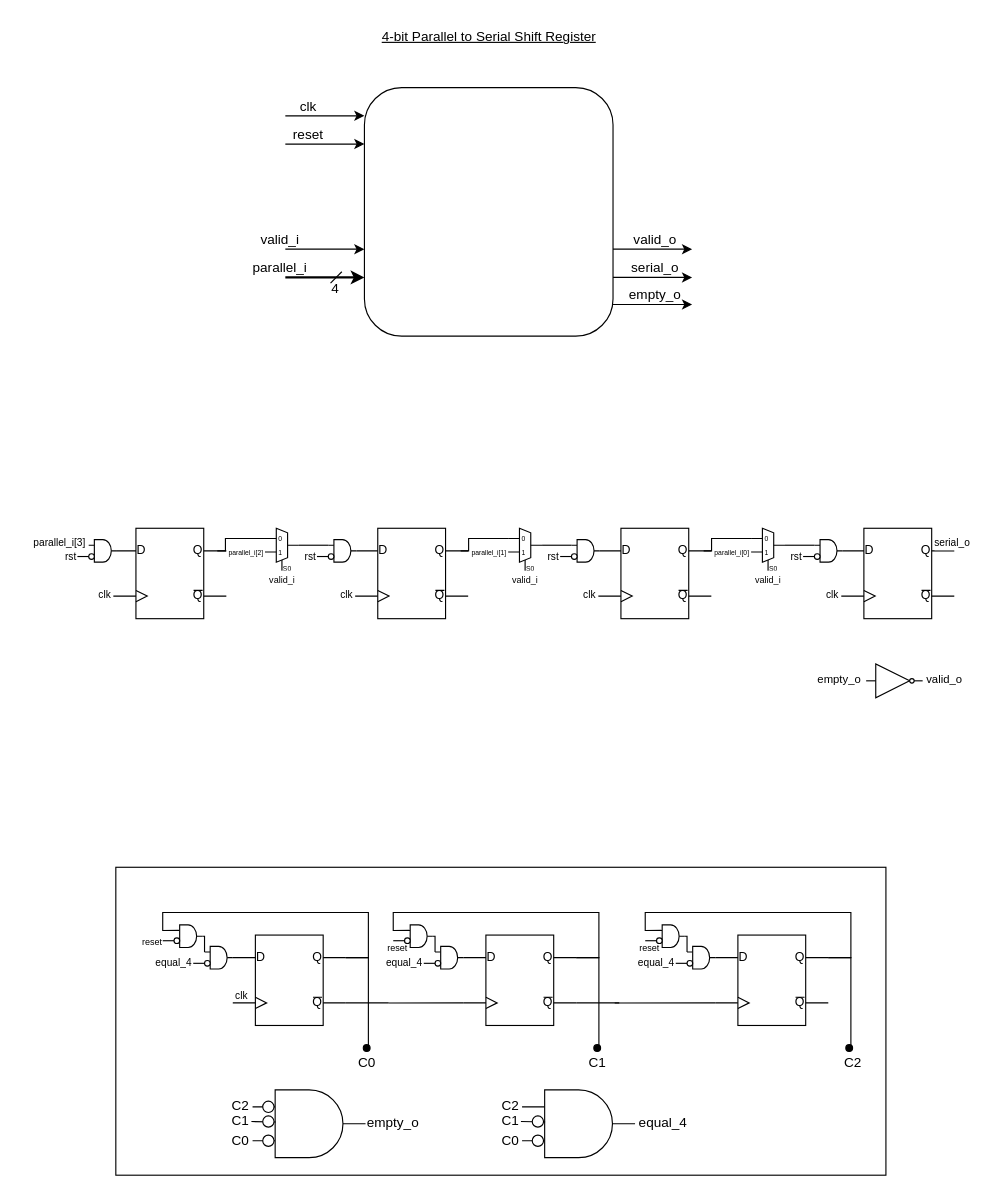
Some shapes in this 1005 by 1194 pixel diagram are drawn without their labels. Each missing label, with the box of its shape:
3-bit Counter with reset and wrap-around at 4: (115, 866, 886, 1175)
PISO: (363, 86, 613, 336)
